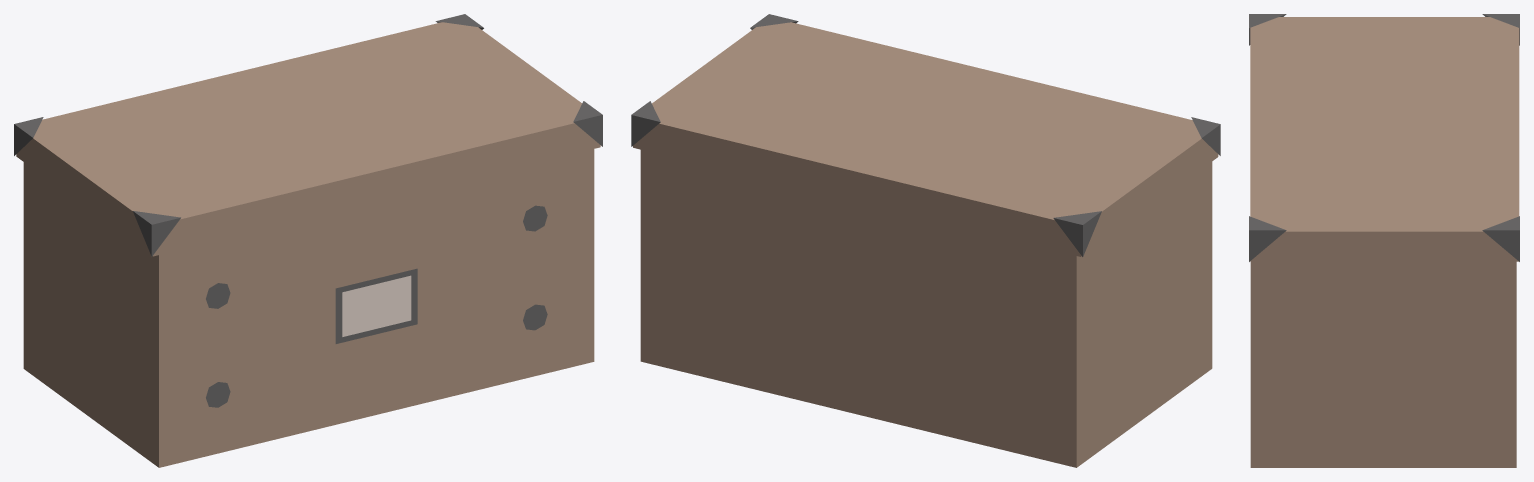
Rendered from Storage_Box_1.fbx.
3 views of the same model, side by side, from view 1: azimuth 30°, elevation 25°; view 2: azimuth 150°, elevation 25°; view 3: azimuth 270°, elevation 25° (orthographic).
Parts seen in each view (by area): view 1: Storage_Box_1; view 2: Storage_Box_1; view 3: Storage_Box_1.
Boxes of the visible parts, box(x1,y1,x2,y2) form: Storage_Box_1: box(14, 14, 602, 467); Storage_Box_1: box(631, 14, 1220, 467); Storage_Box_1: box(1249, 14, 1519, 467).
Bounding box in the file's own units: 72.67 × 38.42 × 37.81.
